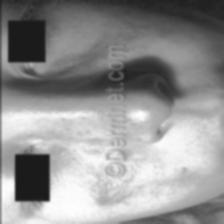Unclassified: (64, 11, 109, 81), (80, 178, 138, 208), (108, 13, 170, 36), (65, 126, 100, 166), (160, 170, 194, 199)
